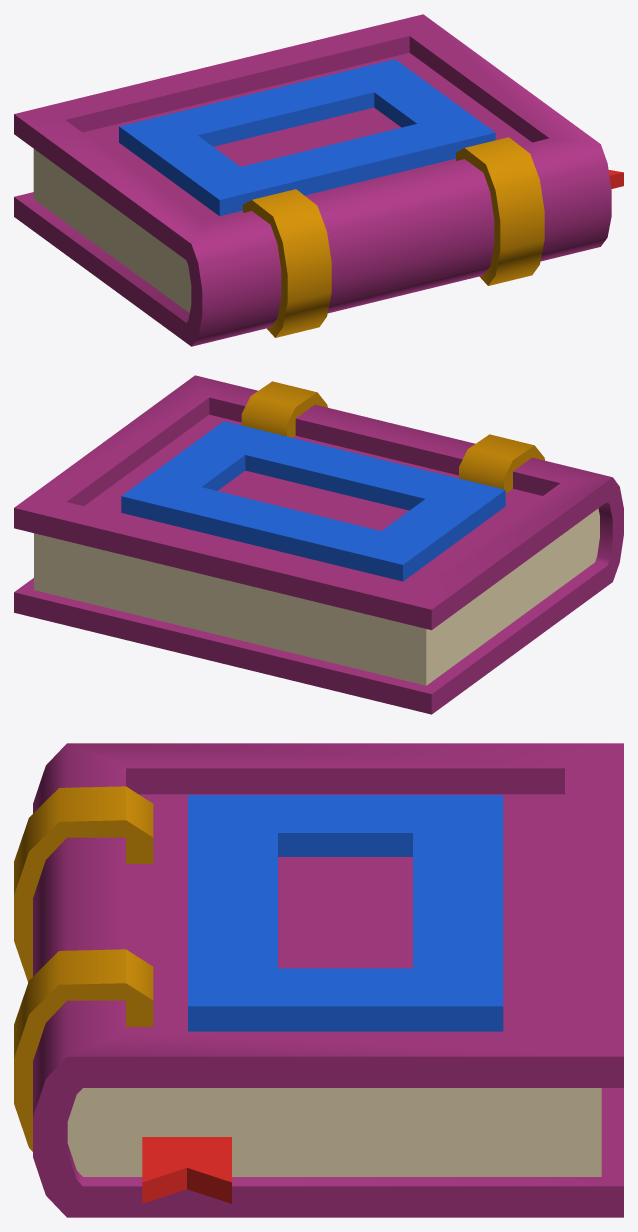
File: book.glb
3 renders of one model, top to bottom at view 1: azimuth 30°, elevation 25°; view 2: azimuth 150°, elevation 25°; view 3: azimuth 270°, elevation 25°, orthographic. The views are drawn at different scales.
Parts seen in each view (by area): view 1: Cube; view 2: Cube; view 3: Cube.
Part boxes in pixels (x1,y1,x2,y2): Cube: (14, 14, 623, 346); Cube: (14, 375, 623, 714); Cube: (14, 743, 623, 1217).
Size of the model in its own units: 6.19 by 1.57 by 4.56.
